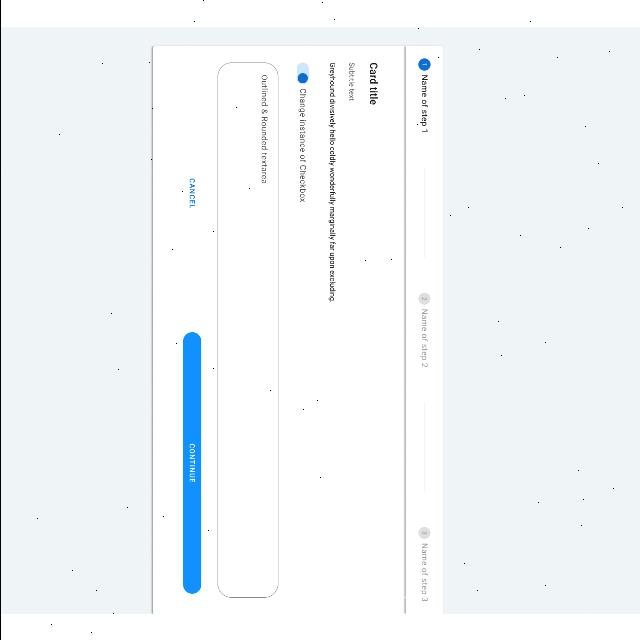QLabel: (328, 58, 337, 294), (297, 86, 307, 202), (419, 540, 429, 602), (418, 307, 428, 368), (419, 72, 429, 132), (368, 60, 378, 106), (188, 440, 196, 486), (188, 177, 196, 210), (348, 60, 354, 100)
VBtn: (180, 331, 202, 593)
VDivider: (422, 165, 426, 258), (421, 400, 425, 492)
VStepper: (141, 41, 445, 614)
VSwitch: (294, 61, 308, 84)
VTextarea: (216, 60, 278, 598)
